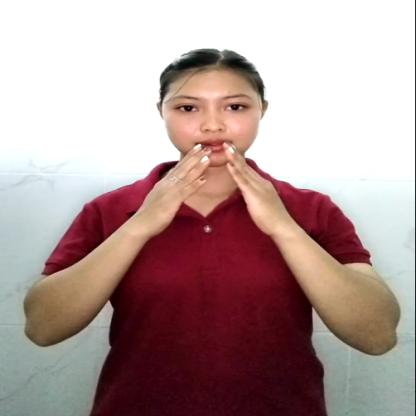Thank you: (130, 140, 302, 237)
